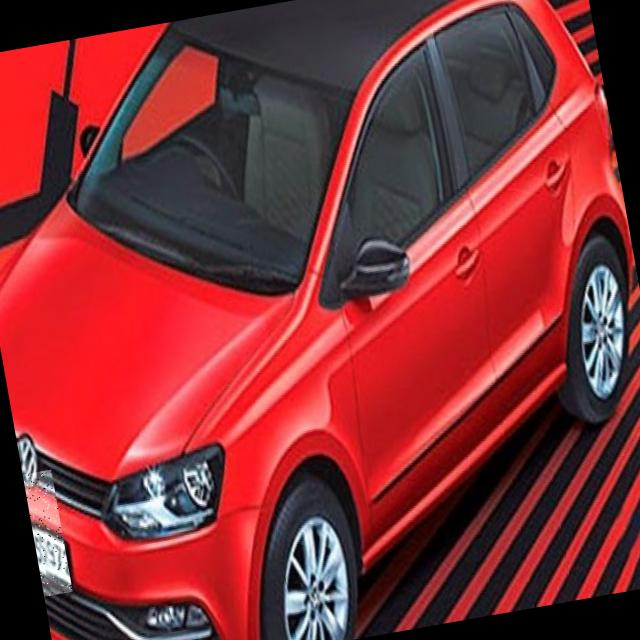Plate: (24, 470, 74, 597)
